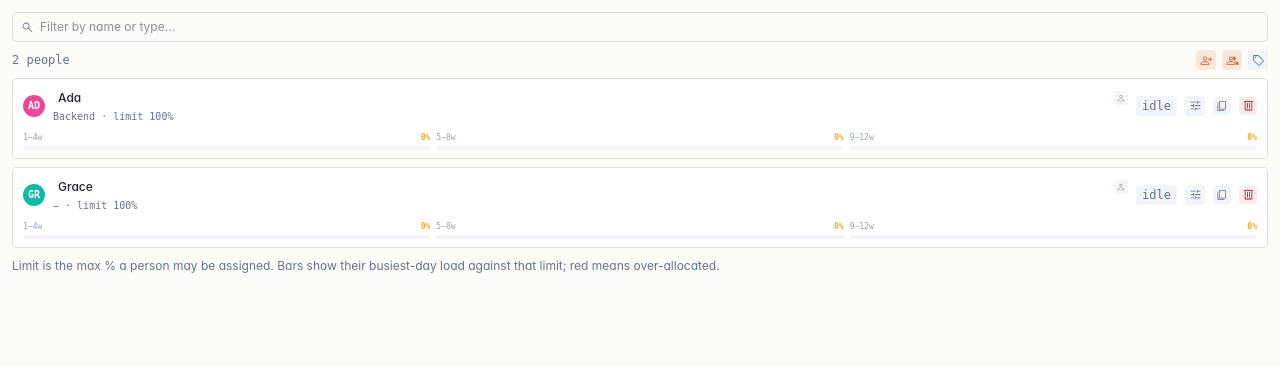
Scenario: the row stays scannable › closes on a second click of the same row
The width and height of the screenshot is (1280, 367).
What coordinates should you click on to do the following:
click the button named "Type, limit and rate" in the row of "Backend"
I would click on:
 (1195, 106)
Its box is [1185,96,1205,116].
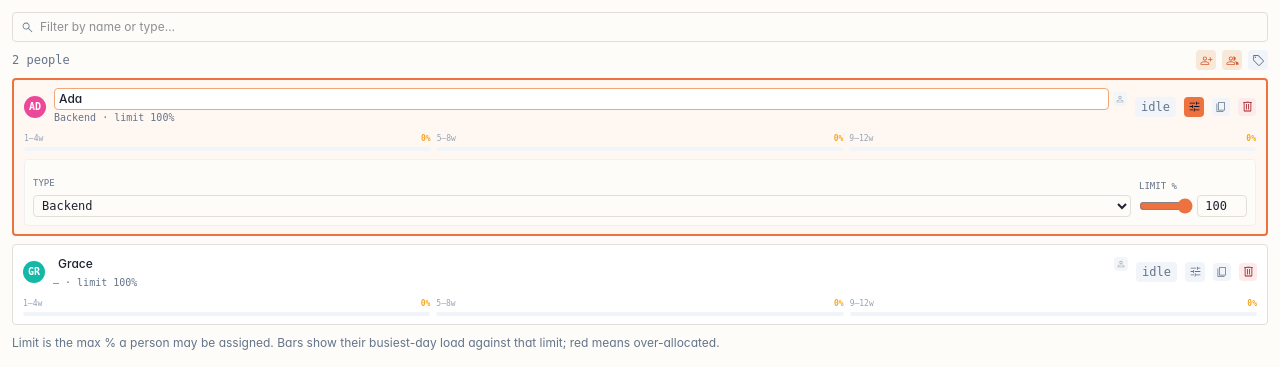
What coordinates should you click on to do the following:
click the button named "Type, limit and rate" in the row of "Backend"
I would click on:
 (1194, 106)
Its box is [1184,96,1204,116].
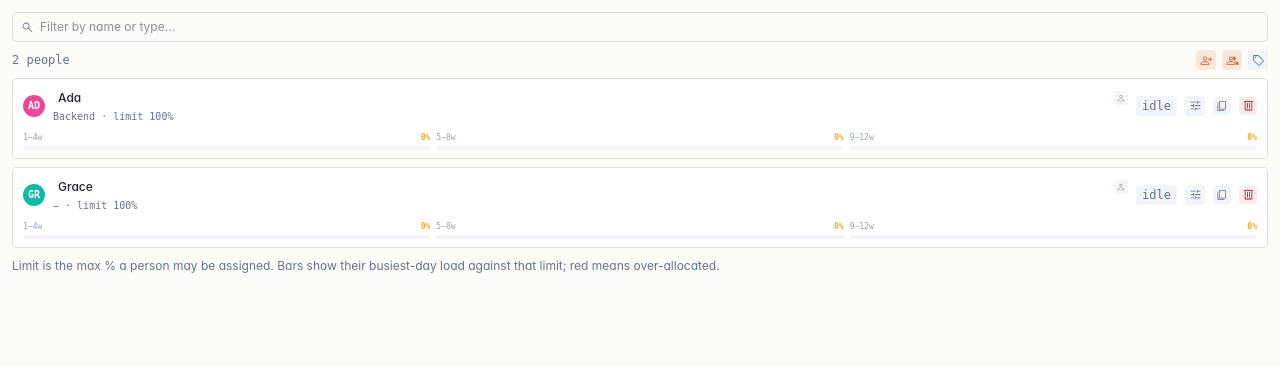
Expected: the text "LIMIT %" is gone
